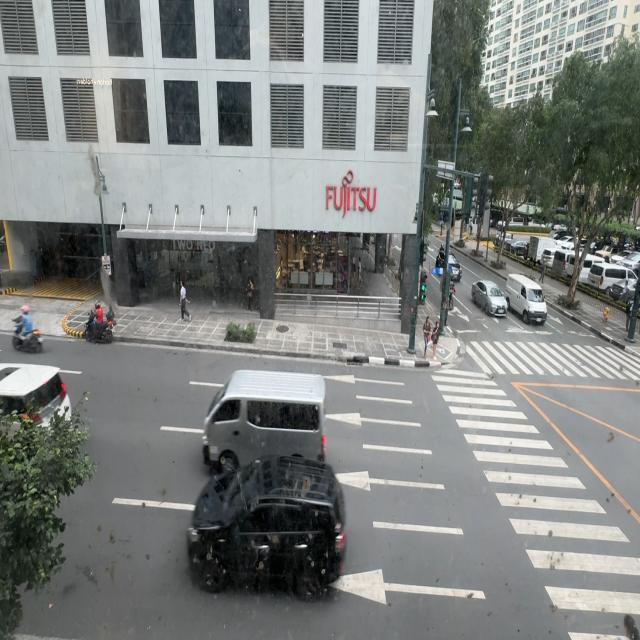pedestrain: (182, 282, 194, 322)
waiting: (422, 317, 432, 359), (430, 322, 441, 359), (538, 256, 546, 283)
